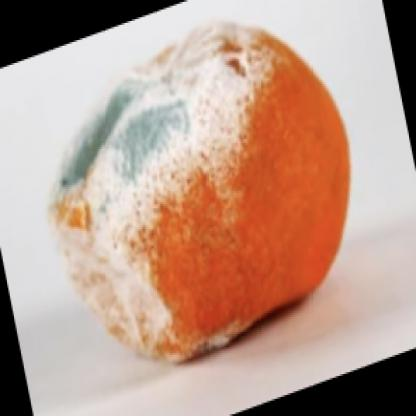rotten_orange: (42, 15, 351, 368)
